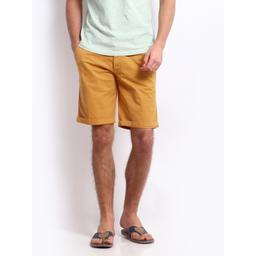short: (74, 39, 160, 129)
